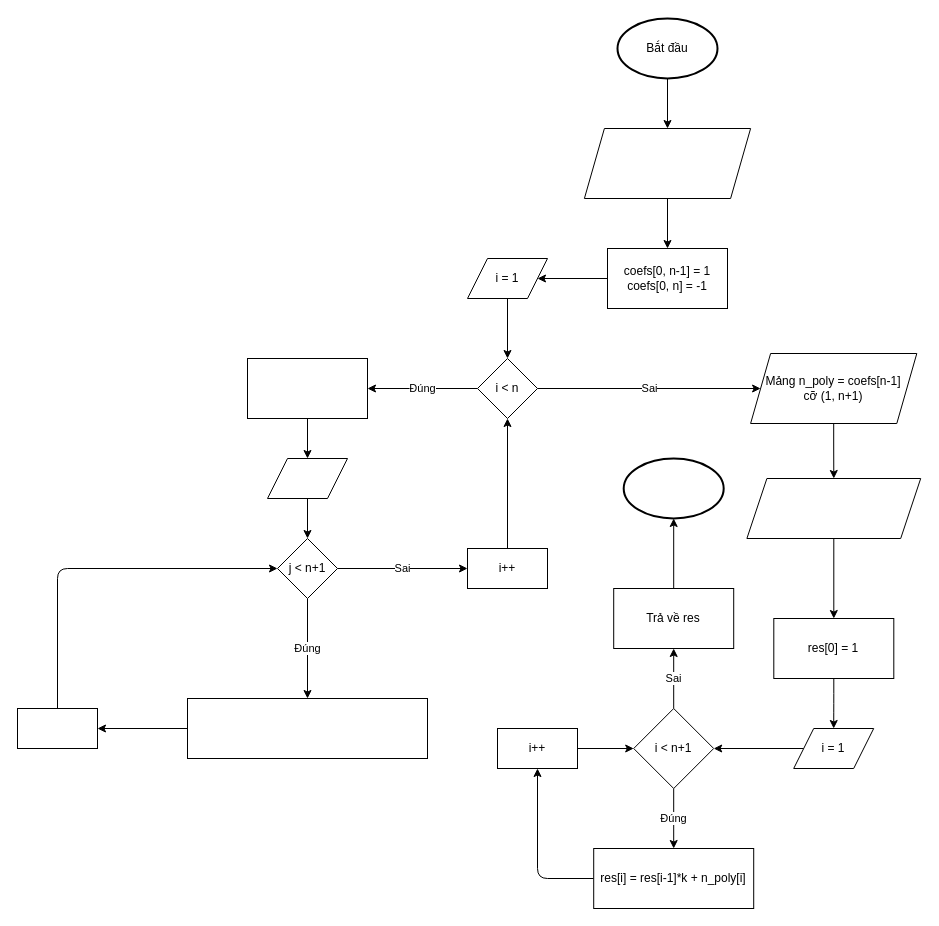
Image size: 939x926. Some labels were removed from this diagram. Here are the shapes that lost their labels. From the top down, the centre of each, then its label:
point (667, 163): Mảng số 0 coefs cỡ (n, n+2)
point (307, 388): coefs[i, n-i-1] = 1
point (307, 478): j = n-i
point (673, 488): Kết thúc
point (833, 508): Mảng số 0 res cỡ (1, n+1)
point (57, 728): j++
point (307, 728): coefs[i,j] = coefs[i-1,j+1] - (i+1)*coefs[i-1, j]
